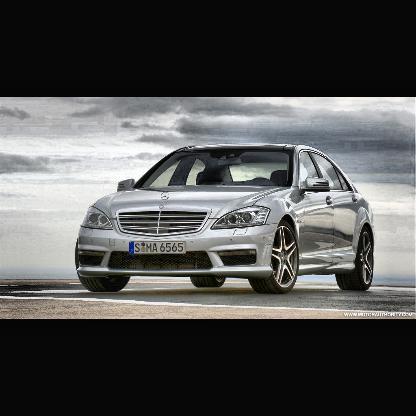Mercedes-Benz S-Class Sedan 2012: (76, 145, 374, 294)
